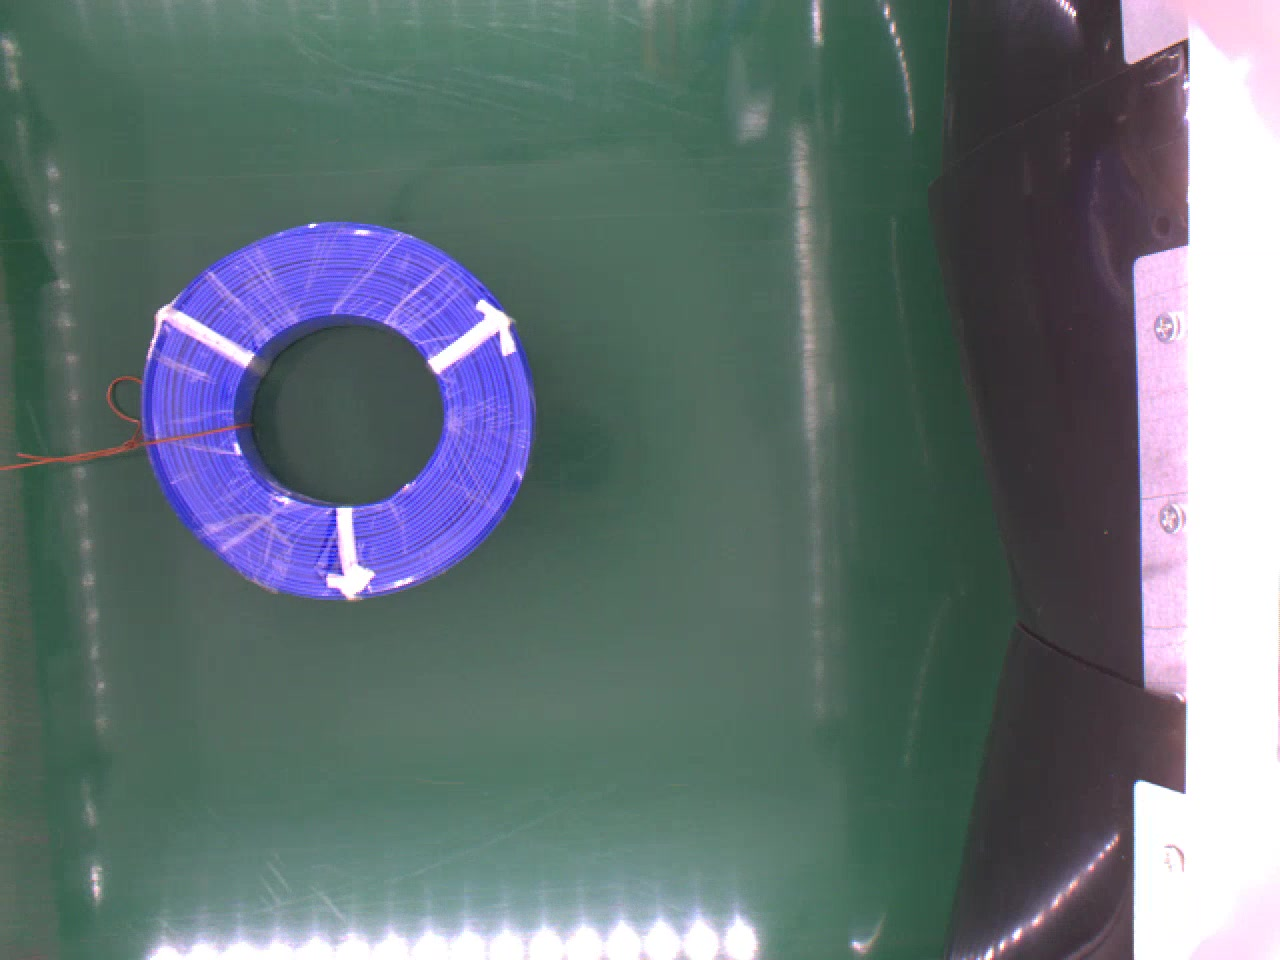blue: (145, 220, 538, 601)
